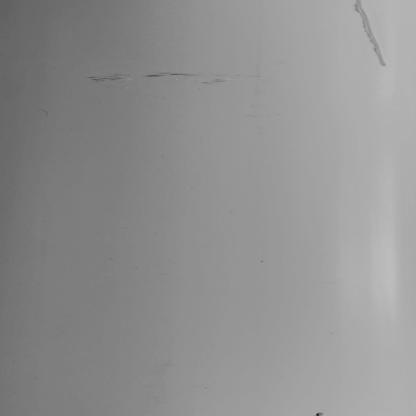sunshang: (87, 70, 242, 85), (354, 3, 389, 66)
